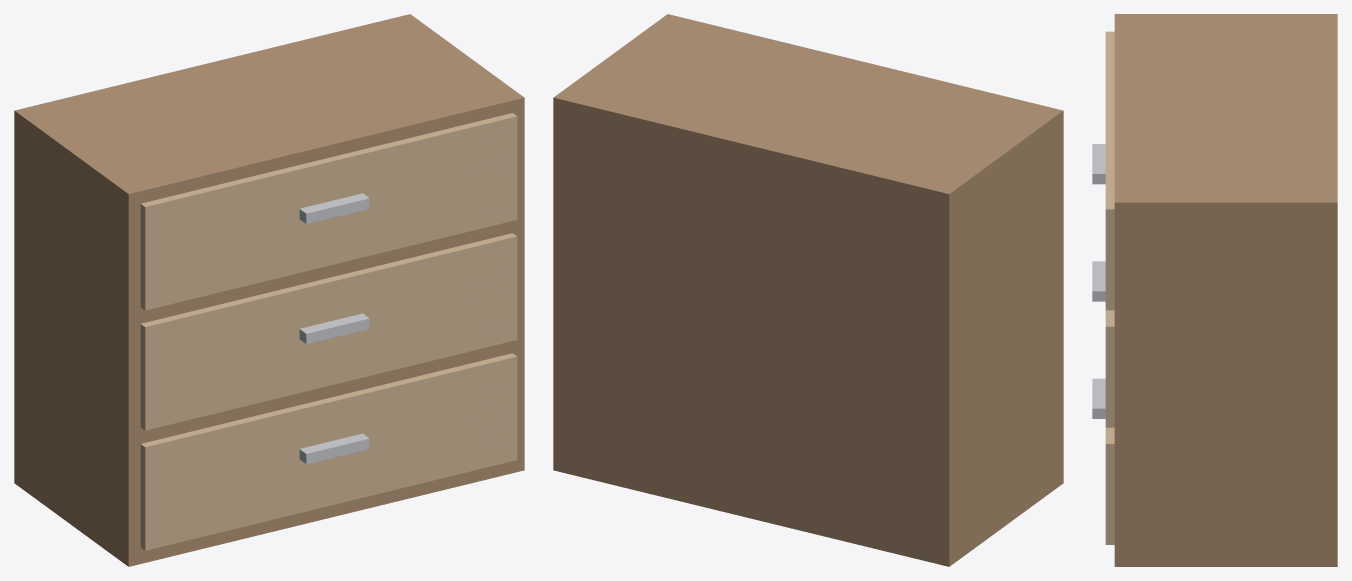
File: drawer_chest.glb
The picture shows the model from 3 angles, left to right: view 1: azimuth 30°, elevation 25°; view 2: azimuth 150°, elevation 25°; view 3: azimuth 270°, elevation 25°; orthographic projection. The views are drawn at different scales.
Visible parts, largest first — view 1: drawer_chest; view 2: drawer_chest; view 3: drawer_chest.
Boxes of the visible parts, bbox=[...] form: drawer_chest: bbox=[14, 14, 524, 566]; drawer_chest: bbox=[553, 14, 1063, 566]; drawer_chest: bbox=[1092, 14, 1337, 566].
Bounding box in the file's own units: 1 × 0.9 × 0.55.
